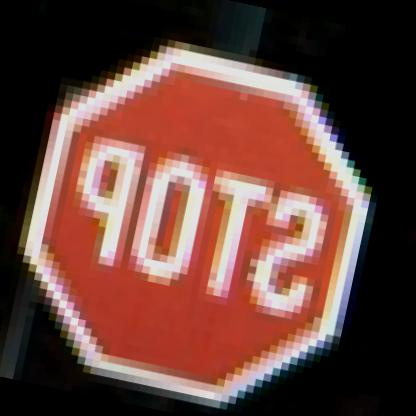stop: (0, 2, 414, 415)
